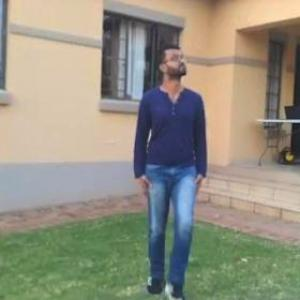follow: (137, 42, 211, 289)
